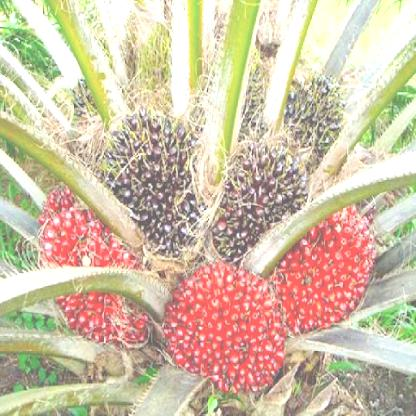1: (162, 264, 295, 392), (268, 202, 376, 334)
palm-oil: (98, 98, 208, 254), (37, 193, 146, 350), (215, 136, 313, 264), (286, 72, 349, 157)
